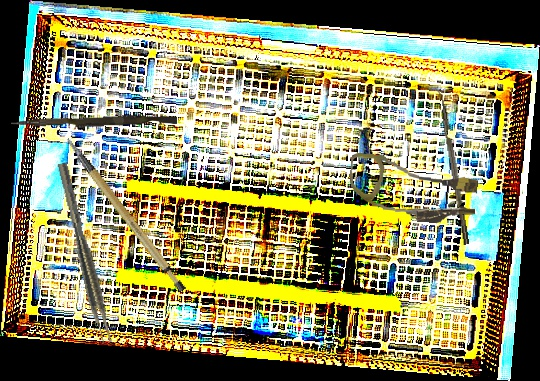Cannula: (346, 152, 480, 227)
Chopper: (431, 86, 470, 247)
Pusher: (10, 111, 178, 133)
Scalpel Handle: (65, 122, 189, 305)
Tissue Forceps: (56, 161, 115, 345)
